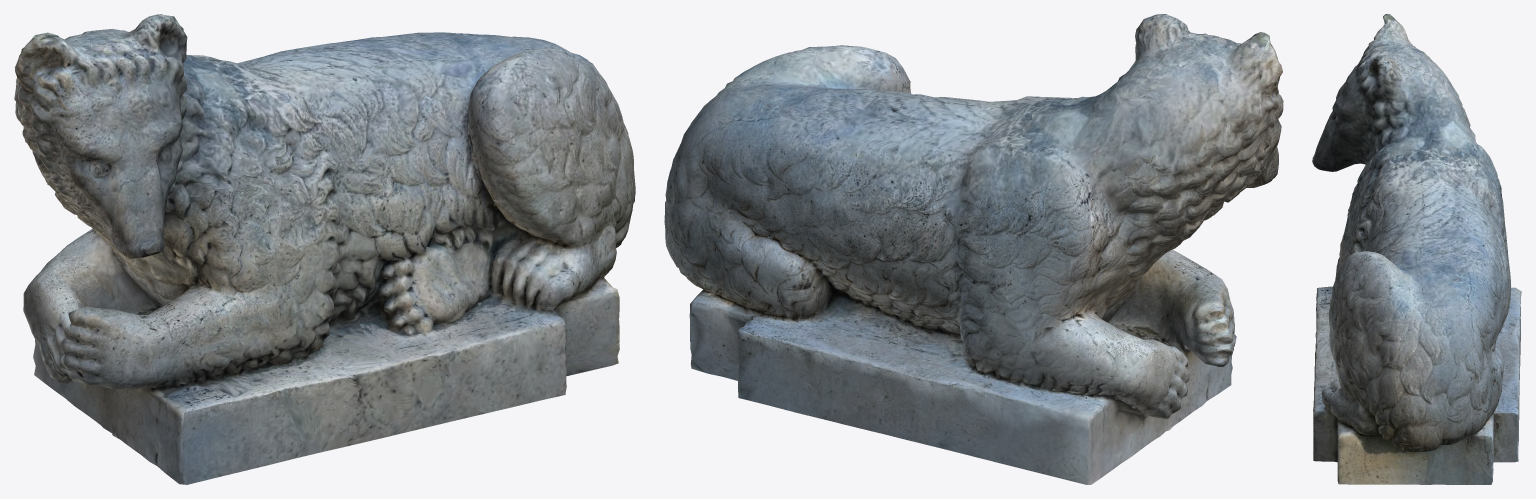
File: bear_sculpture.glb
3 views of the same model, side by side, from view 1: azimuth 30°, elevation 25°; view 2: azimuth 150°, elevation 25°; view 3: azimuth 270°, elevation 25° (orthographic). The views are drawn at different scales.
Visible parts, largest first — view 1: Bear Sculpture (Photoscanned); view 2: Bear Sculpture (Photoscanned); view 3: Bear Sculpture (Photoscanned).
Boxes of the visible parts, left/top/right/bottom form: Bear Sculpture (Photoscanned): left=14, top=14, right=635, bottom=484; Bear Sculpture (Photoscanned): left=664, top=14, right=1283, bottom=484; Bear Sculpture (Photoscanned): left=1312, top=14, right=1521, bottom=484.
Size of what is drawn, in the model's own units: 1.32 by 0.8701 by 0.564.
1 material, 1 textured.
